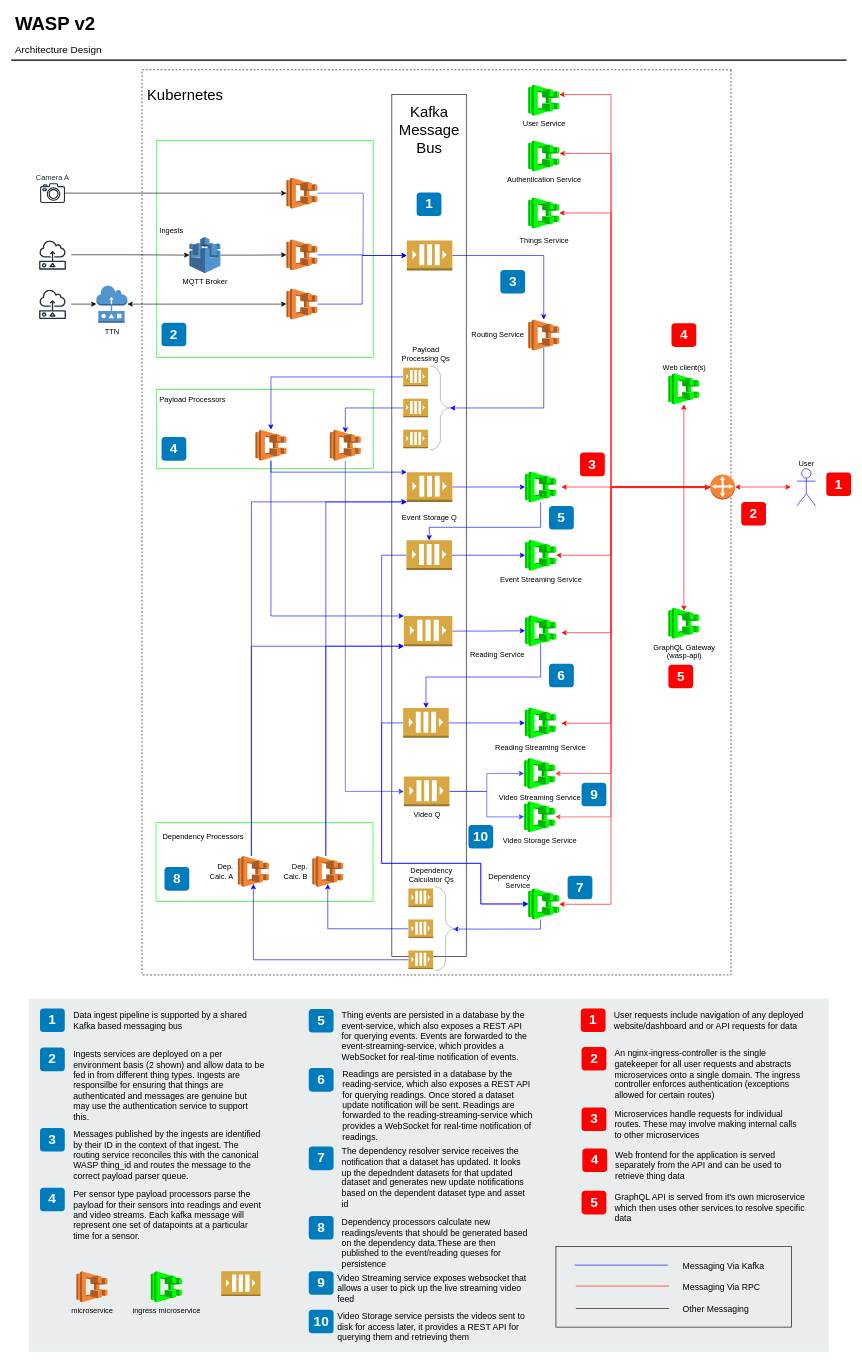
Some shapes in this 862 by 1363 pixel diagram are drawn without their labels. Here are the shapes that lost their labels. From the top down, the centre of each, then its label:
the point at 301,193: RTMP Ingest
the point at 52,254: Sensor A
the point at 301,254: MQTT Ingest
the point at 429,255: RAW Payload Q
the point at 52,304: Sensor B
the point at 301,304: TTN Ingest
the point at 270,445: Payload Parser A
the point at 345,445: Payload Parser B
the point at 540,487: Event Service
the point at 722,486: Nginx Ingress Controller
the point at 429,555: Event Notification Q
the point at 427,630: Reading Storage Q
the point at 426,722: Reading Notification Q
the point at 241,1283: Kafka topic
